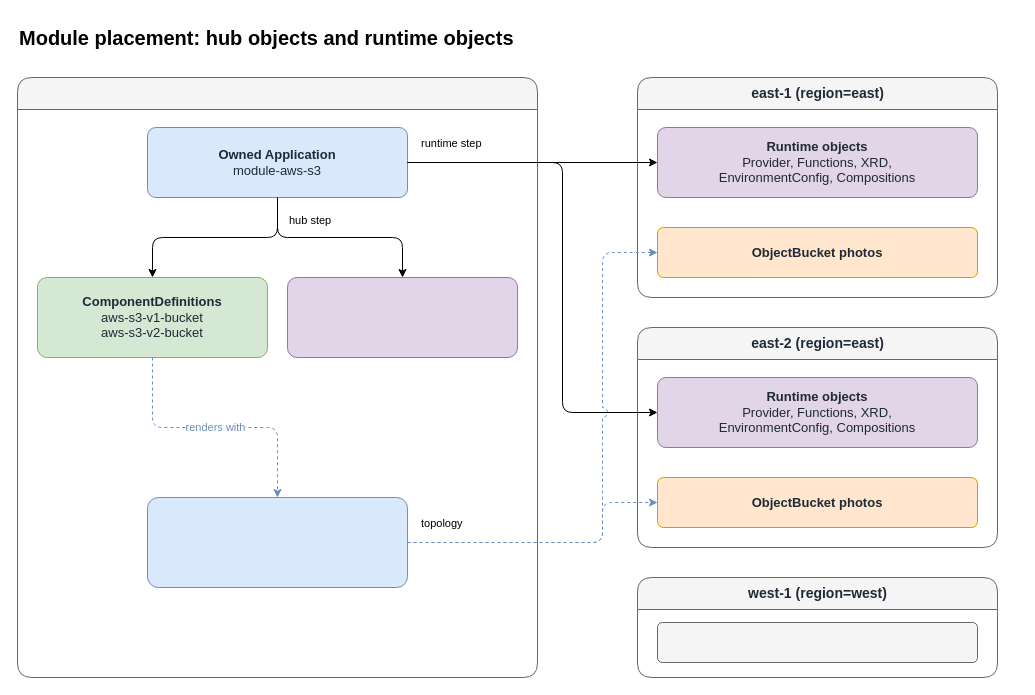
Image size: 1035x695. Some labels were removed from this diagram. The shapes that lost their labels are listed below. From the top down, each one's box as (x1, y1, x2, y2) in pixels, then its label:
(286, 276, 518, 358): ConfigMap aws-s3-catalog from auxiliary/hub/
(16, 76, 538, 678): Hub cluster (local)
(146, 496, 408, 588): Application photos type: aws-s3/v1/bucket topology: region=east
(656, 622, 978, 662): No module objects
